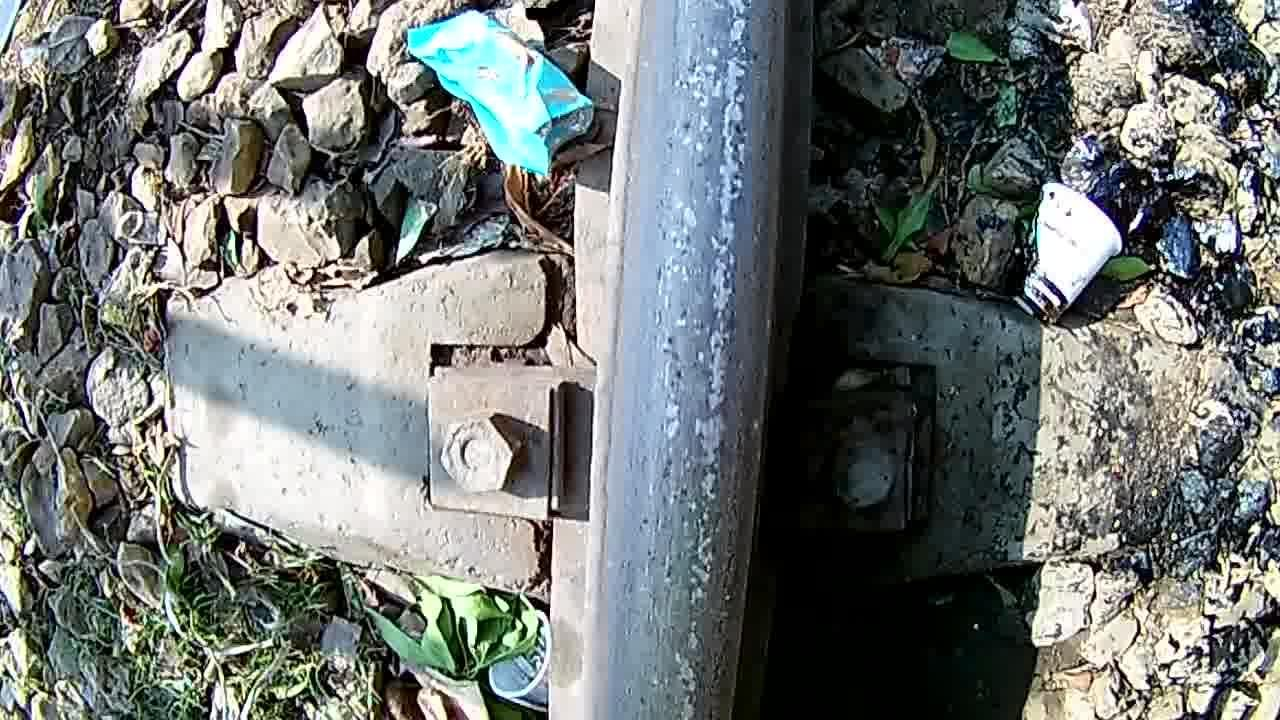crack: (576, 0, 814, 720)
